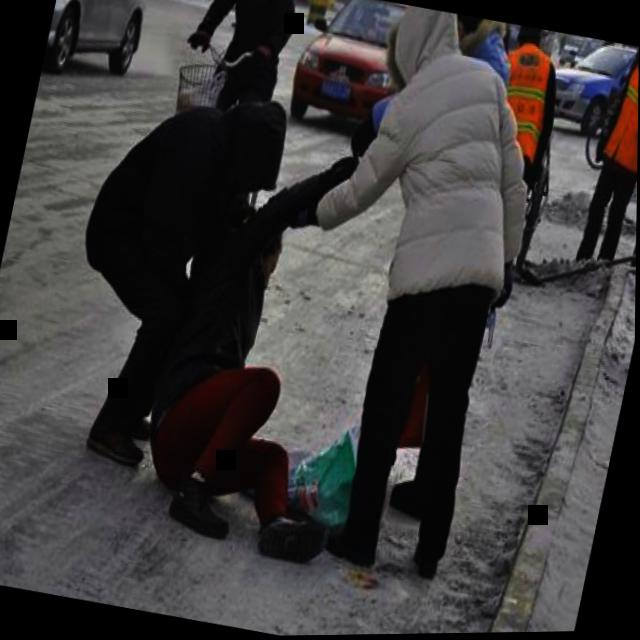Fall-Detected: (125, 128, 409, 582)
